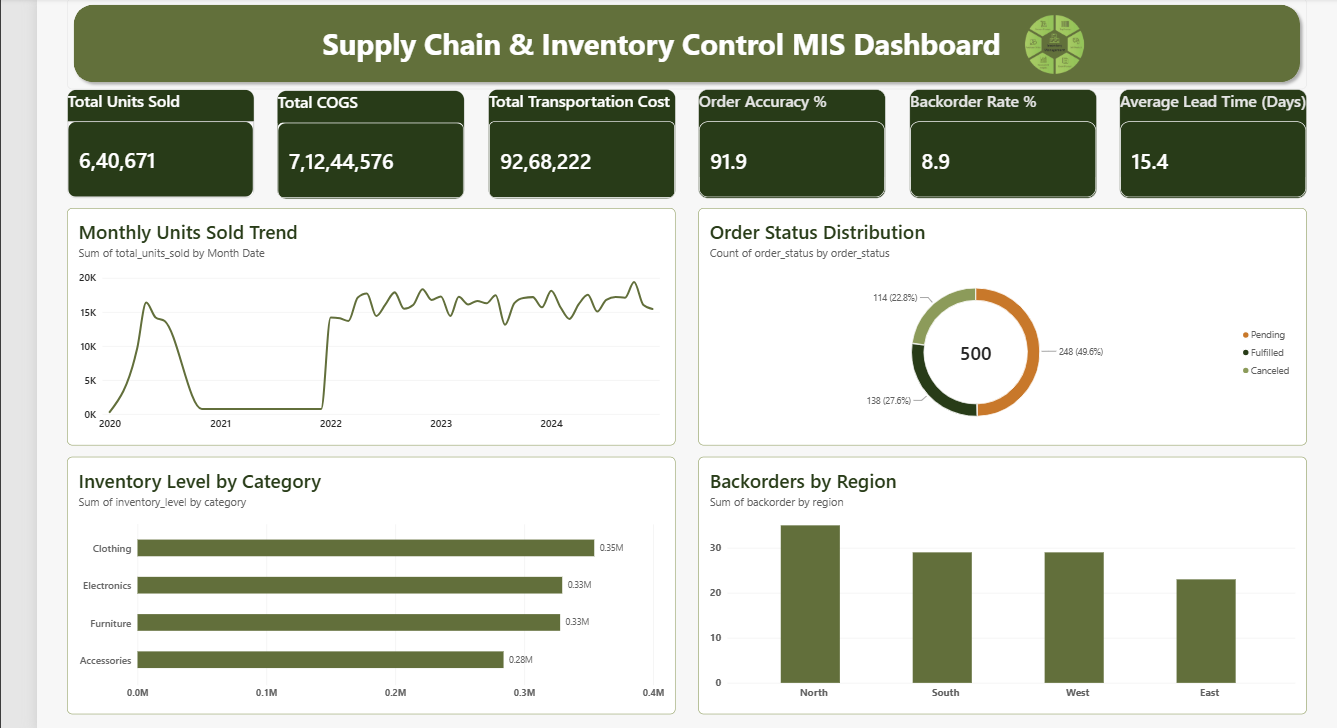

What the dashboard file says about the page in this screenshot:
{"tool":"powerbi","page":{"name":"Executive Overview","canvas":[1920,1080],"ordinal":0},"visuals":[{"type":"shape","box":[44.2,0,1825.8,134.4],"z":0},{"type":"cardVisual","title":"Total Units Sold","fields":{"Data":["Sum(supply_chain_mis vw_monthly_mis.total_units_sold)"]},"box":[44.2,134.4,276,161],"z":1000},{"type":"cardVisual","title":"  Total COGS","fields":{"Data":["Sum(supply_chain_mis vw_monthly_mis.total_cogs)"]},"box":[354.1,136.2,276,160.1],"z":2000},{"type":"cardVisual","title":"Total Transportation Cost","fields":{"Data":["Sum(supply_chain_mis vw_monthly_mis.transportation_cost)"]},"box":[664,134.4,276.1,162],"z":3000},{"type":"cardVisual","title":"Order Accuracy %","fields":{"Data":["Avg(supply_chain_mis vw_monthly_mis.order_accuracy_pct)"]},"box":[973.9,134.4,276.1,161],"z":4000},{"type":"cardVisual","title":"Backorder Rate %","fields":{"Data":["Avg(supply_chain_mis vw_monthly_mis.backorder_rate_pct)"]},"box":[1283.9,134.4,276.1,161],"z":5000},{"type":"cardVisual","title":"Average Lead Time (Days)","fields":{"Data":["Avg(supply_chain_mis vw_monthly_mis.avg_lead_time_days)"]},"box":[1593.9,134.4,276.1,161],"z":6000},{"type":"lineChart","title":"Monthly Units Sold Trend","fields":{"Category":["supply_chain_mis vw_monthly_mis.Month Date"],"Y":["Sum(supply_chain_mis vw_monthly_mis.total_units_sold)"]},"box":[44.2,309.2,896.3,349.7],"z":7000},{"type":"donutChart","title":"Order Status Distribution","fields":{"Category":["supply_chain_mis vw_inventory_exceptions.order_status"],"Y":["CountNonNull(supply_chain_mis vw_inventory_exceptions.order_status)"]},"box":[973.6,309.2,896.3,349.7],"z":8000},{"type":"clusteredBarChart","title":"Inventory Level by Category","fields":{"Category":["supply_chain_mis vw_inventory_exceptions.category"],"Y":["Sum(supply_chain_mis vw_inventory_exceptions.inventory_level)"]},"box":[44.2,675.5,896.3,379.1],"z":9000},{"type":"clusteredColumnChart","title":"Backorders by Region","fields":{"Category":["supply_chain_mis vw_inventory_exceptions.region"],"Y":["Sum(supply_chain_mis vw_inventory_exceptions.backorder)"]},"box":[973.6,675.5,896.3,379.1],"z":10000},{"type":"textbox","box":[62.6,18.4,1761.4,101.2],"z":10001},{"type":"image","box":[1402.5,16.6,191,102.9],"z":10002}]}

Visuals, with their boxes on the page's 1920x1080 design canvas (x1, y1, x2, y2). These are canvas units, not pixel positions in the 1337x728 screenshot, which may show the page scaled, cropped or inside an application window:
shape: 44/0/1870/134
"Total Units Sold" cardVisual: 44/134/320/295
"  Total COGS" cardVisual: 354/136/630/296
"Total Transportation Cost" cardVisual: 664/134/940/296
"Order Accuracy %" cardVisual: 974/134/1250/295
"Backorder Rate %" cardVisual: 1284/134/1560/295
"Average Lead Time (Days)" cardVisual: 1594/134/1870/295
"Monthly Units Sold Trend" lineChart: 44/309/940/659
"Order Status Distribution" donutChart: 974/309/1870/659
"Inventory Level by Category" clusteredBarChart: 44/676/940/1055
"Backorders by Region" clusteredColumnChart: 974/676/1870/1055
textbox: 63/18/1824/120
image: 1402/17/1594/120
